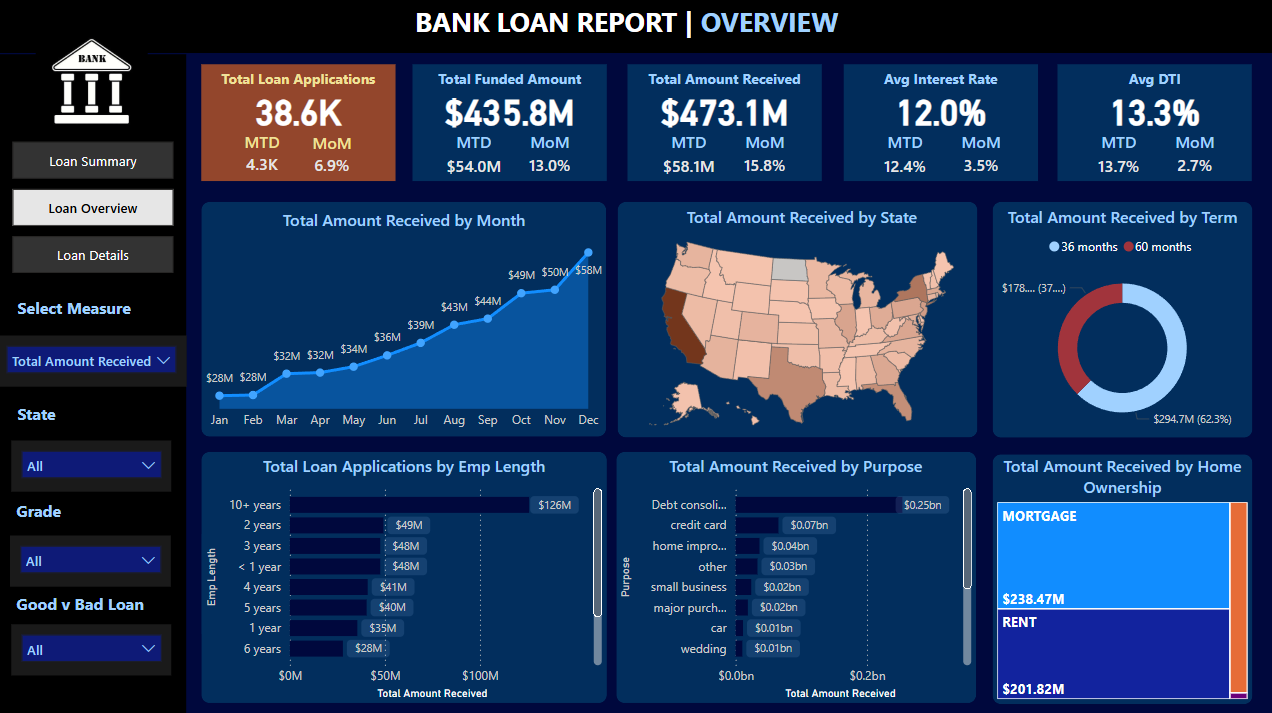

Layout of this report page (visuals, bound fields, positions):
{"tool":"powerbi","page":{"name":"Loan Overview","canvas":[1280,720],"ordinal":1},"visuals":[{"type":"shape","box":[205.7,65.7,194.3,117.1],"z":0,"group":"g1"},{"type":"shape","box":[632,66,194.3,117.1],"z":0,"group":"g3"},{"type":"shape","box":[849,66,194.3,117.1],"z":0,"group":"g4"},{"type":"shape","box":[1063,66,194.3,117.1],"z":0,"group":"g5"},{"type":"shape","box":[417.8,66.1,194.3,117.1],"z":0,"group":"g2"},{"type":"shape","box":[205.7,204.3,405,235],"z":0},{"type":"shape","box":[0,55.7,191.4,664.3],"z":1000},{"type":"card","fields":{"Values":["BankLoanData.Total Loan Applications"]},"box":[205.7,86.4,194.3,48.6],"z":1000,"group":"g1"},{"type":"card","fields":{"Values":["BankLoanData.Total Amount Received"]},"box":[632,86.7,194.3,48.6],"z":1000,"group":"g3"},{"type":"card","fields":{"Values":["BankLoanData.Avg Interest Rate"]},"box":[849,86.7,194.3,48.6],"z":1000,"group":"g4"},{"type":"card","fields":{"Values":["BankLoanData.Avg DTI"]},"box":[1063,86.7,194.3,48.6],"z":1000,"group":"g5"},{"type":"card","fields":{"Values":["BankLoanData.Total Funded Amount"]},"box":[417.8,86.8,194.3,48.6],"z":1000,"group":"g2"},{"type":"shape","box":[0,0,1280,55],"z":2000},{"type":"textbox","box":[205.7,65.7,194.3,31.4],"z":2000,"group":"g1"},{"type":"textbox","box":[632,66,194.3,31.4],"z":2000,"group":"g3"},{"type":"textbox","box":[849,66,194.3,31.4],"z":2000,"group":"g4"},{"type":"textbox","box":[1063,66,194.3,31.4],"z":2000,"group":"g5"},{"type":"textbox","box":[417.8,66.1,194.3,31.4],"z":2000,"group":"g2"},{"type":"textbox","box":[415,0,450,56],"z":3000},{"type":"card","title":"MTD","fields":{"Values":["BankLoanData.MTD Total Amount Received"]},"box":[656.3,132.1,75.2,53.8],"z":3000,"group":"g3"},{"type":"card","title":"MTD","fields":{"Values":["BankLoanData.MTD Avg Int Rate"]},"box":[873.3,132.1,75.2,53.8],"z":3000,"group":"g4"},{"type":"card","title":"MTD","fields":{"Values":["BankLoanData.MTD Avg DTI"]},"box":[1087.3,132.1,75.2,53.8],"z":3000,"group":"g5"},{"type":"card","title":"MTD","fields":{"Values":["BankLoanData.MTD Funded Amount"]},"box":[442.1,132.2,75.2,53.8],"z":3000,"group":"g2"},{"type":"card","title":"MTD","fields":{"Values":["BankLoanData.MTD Loan Applications"]},"box":[230.3,132.5,71.7,48.9],"z":3000,"group":"g1"},{"type":"group","id":"g1","title":"Group 1","box":[205.7,65.7,194.3,117.1],"z":4000},{"type":"card","title":"MoM","fields":{"Values":["BankLoanData.MOM Total Amount Received"]},"box":[737.3,131.7,64.8,51.4],"z":4000,"group":"g3"},{"type":"card","title":"MoM","fields":{"Values":["BankLoanData.MOM Avg Int Rate"]},"box":[954.3,131.7,64.8,51.4],"z":4000,"group":"g4"},{"type":"card","title":"MoM","fields":{"Values":["BankLoanData.MOM Avg DTI"]},"box":[1168.3,131.7,64.8,51.4],"z":4000,"group":"g5"},{"type":"card","title":"MoM","fields":{"Values":["BankLoanData.MOM Funded Amount"]},"box":[523.1,131.8,64.8,51.4],"z":4000,"group":"g2"},{"type":"card","title":"MoM","fields":{"Values":["BankLoanData.MOM Loan Applications"]},"box":[302.5,133.6,68.9,48.3],"z":4000,"group":"g1"},{"type":"group","id":"g2","title":"Group 1","box":[417.8,66.1,194.3,120],"z":5000},{"type":"group","id":"g3","title":"Group 1","box":[632,66,193,120],"z":6000},{"type":"group","id":"g4","title":"Group 1","box":[849,66,193,120],"z":7000},{"type":"group","id":"g5","title":"Group 1","box":[1063,66,194,120],"z":8000},{"type":"slicer","fields":{"Values":["BankLoanData.State"]},"box":[15.7,442.4,160,51.4],"z":9000},{"type":"textbox","box":[17.1,400,81.4,40],"z":10000},{"type":"slicer","fields":{"Values":["BankLoanData.Grade"]},"box":[15,537.1,161,51],"z":11000},{"type":"textbox","box":[15.7,496.2,92.9,38.6],"z":12000},{"type":"textbox","box":[15.7,590.5,190,45.7],"z":13000},{"type":"slicer","fields":{"Values":["BankLoanData.Good vs Bad Loan"]},"box":[15.7,625.7,160,51.4],"z":14000},{"type":"areaChart","fields":{"Y":["BankLoanData.Total Amount Received"],"Category":["Date Table.Month"]},"box":[205.7,210,405.7,230],"z":15000},{"type":"slicer","fields":{"Values":["Select Measure.Select Measure"]},"box":[1.4,337.1,190,51.4],"z":16000},{"type":"textbox","box":[17.1,294.3,145.7,31.4],"z":17000},{"type":"shape","box":[622.9,204.3,360,235.7],"z":18000},{"type":"shapeMap","fields":{"Value":["BankLoanData.Total Amount Received"],"Category":["BankLoanData.State"]},"box":[627.5,207.5,358.8,235],"z":19000},{"type":"shape","box":[997,204,260,236],"z":20000},{"type":"donutChart","fields":{"Y":["BankLoanData.Total Amount Received"],"Category":["BankLoanData.Term"]},"box":[997.1,207.1,260,235.7],"z":21000},{"type":"shape","box":[205.7,454.3,405.7,251.4],"z":22000},{"type":"barChart","title":"Total Loan Applications by Emp Length","fields":{"Y":["BankLoanData.Total Amount Received"],"Category":["BankLoanData.Emp_Length"]},"box":[205.7,455.7,405.7,250],"z":23000},{"type":"shape","box":[621.4,454.3,360,251.4],"z":24000},{"type":"shape","box":[997.1,455.7,260,250],"z":25000},{"type":"barChart","fields":{"Y":["BankLoanData.Total Amount Received"],"Category":["BankLoanData.Purpose"]},"box":[620,455.7,361.4,250],"z":26000},{"type":"treemap","title":"Total Amount Received by Home Ownership","fields":{"Values":["BankLoanData.Total Amount Received"],"Group":["BankLoanData.Home_Ownership"]},"box":[997.1,455.7,260,250],"z":27000},{"type":"pageNavigator","box":[17.1,144.3,161.4,132.9],"z":28000},{"type":"image","box":[17.1,22.9,158.6,121.4],"z":29000}]}

Visuals, with their boxes in screenshot pixels (x1, y1, x2, y2), scaled from the page's 1280x720 canvas onto the 1272x713 screenshot:
shape: (204, 65, 398, 181)
shape: (628, 65, 821, 181)
shape: (844, 65, 1037, 181)
shape: (1056, 65, 1249, 181)
shape: (415, 65, 608, 181)
shape: (204, 202, 607, 435)
shape: (0, 55, 190, 712)
card - BankLoanData.Total Loan Applications: (204, 86, 398, 134)
card - BankLoanData.Total Amount Received: (628, 86, 821, 134)
card - BankLoanData.Avg Interest Rate: (844, 86, 1037, 134)
card - BankLoanData.Avg DTI: (1056, 86, 1249, 134)
card - BankLoanData.Total Funded Amount: (415, 86, 608, 134)
shape: (0, 0, 1271, 54)
textbox: (204, 65, 398, 96)
textbox: (628, 65, 821, 96)
textbox: (844, 65, 1037, 96)
textbox: (1056, 65, 1249, 96)
textbox: (415, 65, 608, 97)
textbox: (412, 0, 860, 55)
"MTD" card: (652, 131, 727, 184)
"MTD" card: (868, 131, 943, 184)
"MTD" card: (1081, 131, 1155, 184)
"MTD" card: (439, 131, 514, 184)
"MTD" card: (229, 131, 300, 180)
"Group 1" group: (204, 65, 398, 181)
"MoM" card: (733, 130, 797, 181)
"MoM" card: (948, 130, 1013, 181)
"MoM" card: (1161, 130, 1225, 181)
"MoM" card: (520, 131, 584, 181)
"MoM" card: (301, 132, 369, 180)
"Group 1" group: (415, 65, 608, 184)
"Group 1" group: (628, 65, 820, 184)
"Group 1" group: (844, 65, 1035, 184)
"Group 1" group: (1056, 65, 1249, 184)
slicer - BankLoanData.State: (16, 438, 175, 489)
textbox: (17, 396, 98, 436)
slicer - BankLoanData.Grade: (15, 532, 175, 582)
textbox: (16, 491, 108, 530)
textbox: (16, 585, 204, 630)
slicer - BankLoanData.Good vs Bad Loan: (16, 620, 175, 671)
areaChart - BankLoanData.Total Amount Received x Date Table.Month: (204, 208, 608, 436)
slicer - Select Measure.Select Measure: (1, 334, 190, 385)
textbox: (17, 291, 162, 323)
shape: (619, 202, 977, 436)
shapeMap - BankLoanData.Total Amount Received x BankLoanData.State: (624, 205, 980, 438)
shape: (991, 202, 1249, 436)
donutChart - BankLoanData.Total Amount Received x BankLoanData.Term: (991, 205, 1249, 438)
shape: (204, 450, 608, 699)
"Total Loan Applications by Emp Length" barChart: (204, 451, 608, 699)
shape: (618, 450, 975, 699)
shape: (991, 451, 1249, 699)
barChart - BankLoanData.Total Amount Received x BankLoanData.Purpose: (616, 451, 975, 699)
"Total Amount Received by Home Ownership" treemap: (991, 451, 1249, 699)
pageNavigator: (17, 143, 177, 275)
image: (17, 23, 175, 143)
